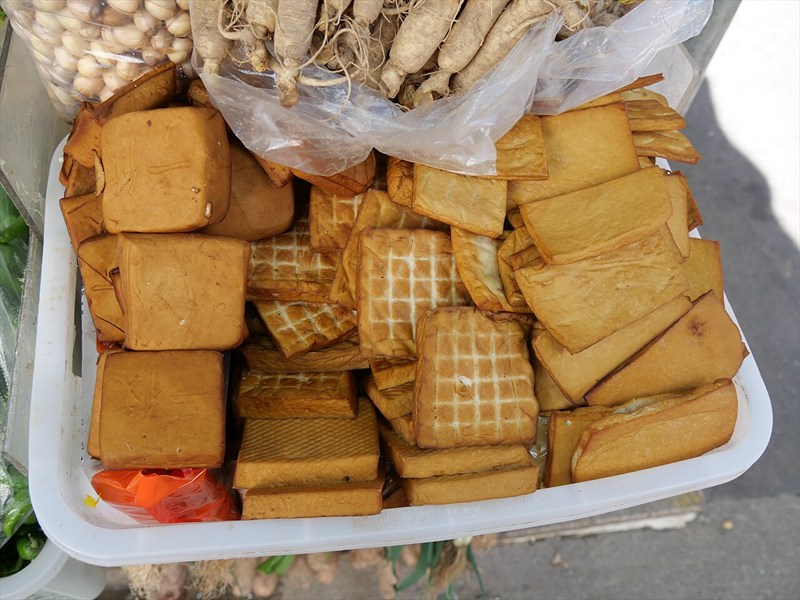Tahu Goreng: (77, 54, 633, 516)
